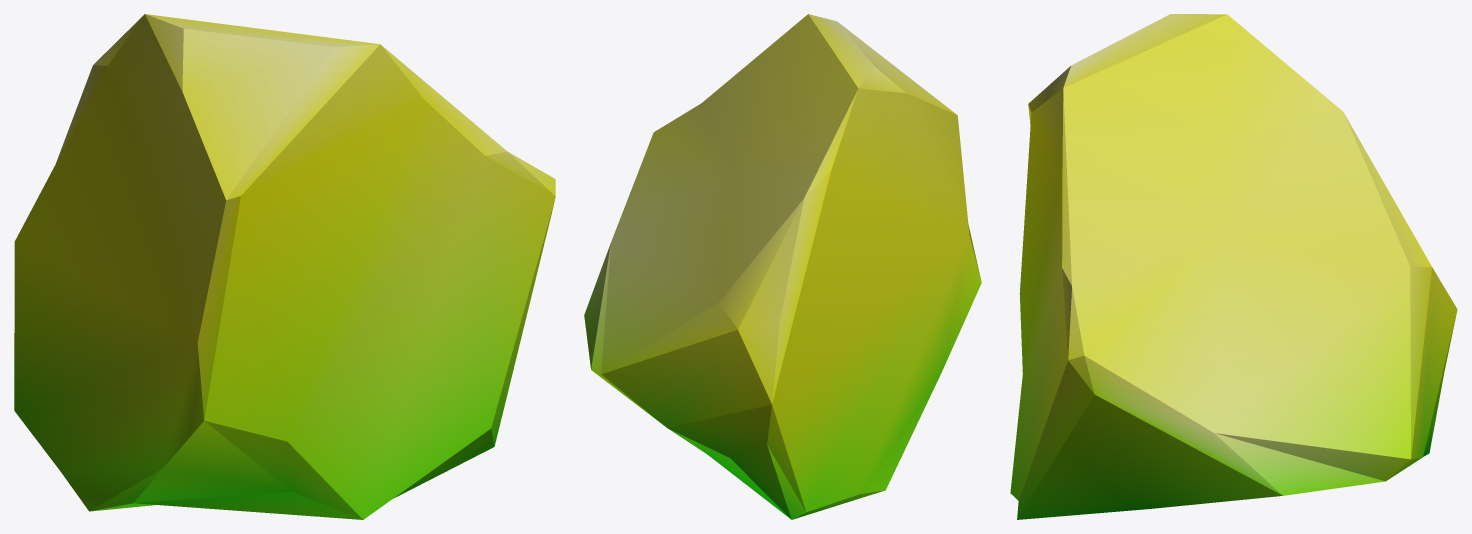
File: rock_solo_03_LOD2.fbx
The picture shows the model from 3 angles, left to right: view 1: azimuth 30°, elevation 25°; view 2: azimuth 150°, elevation 25°; view 3: azimuth 270°, elevation 25°; orthographic projection. The views are drawn at different scales.
Parts seen in each view (by area): view 1: LOD2; view 2: LOD2; view 3: LOD2.
Boxes of the visible parts, x1,y1,x2,y2 form: LOD2: [14, 14, 555, 519]; LOD2: [584, 14, 981, 519]; LOD2: [1010, 14, 1457, 519].
Size of the model in its own units: 25101 by 30980 by 26274.
